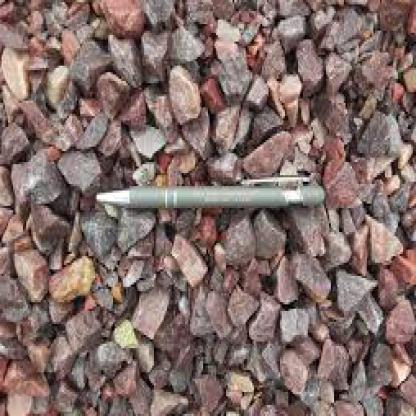Metamorphic_Quartize: (324, 131, 364, 208), (288, 241, 334, 304), (328, 261, 382, 313), (206, 48, 256, 101), (162, 61, 202, 127), (52, 138, 100, 193), (167, 230, 211, 289), (46, 254, 96, 302), (293, 35, 326, 101), (129, 278, 167, 335), (107, 29, 140, 94), (112, 206, 156, 252), (223, 282, 264, 328), (223, 217, 257, 267), (95, 68, 124, 112)
